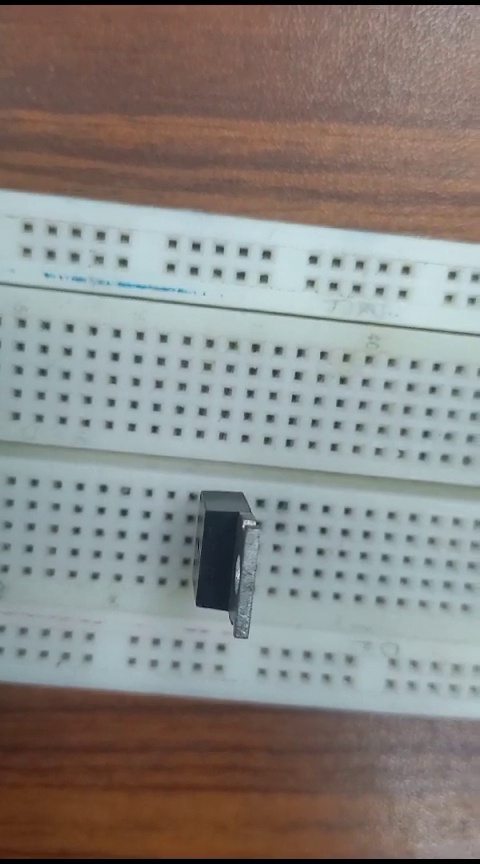voltage regulator: (177, 483, 264, 663)
